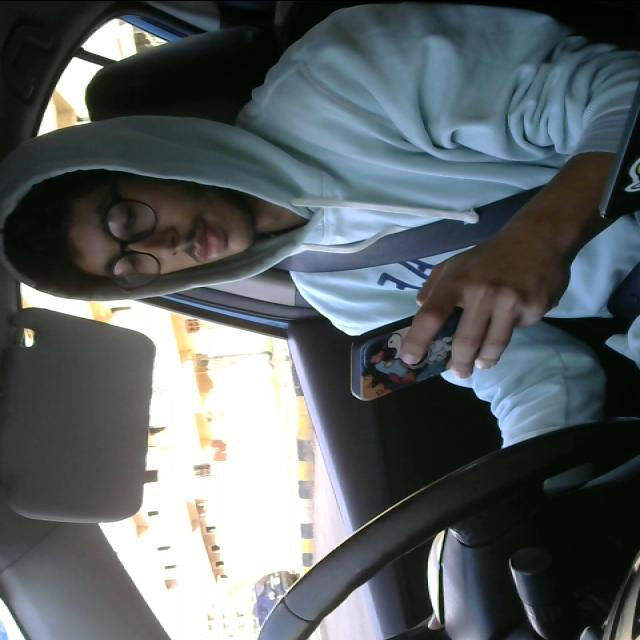mobile use: (340, 309, 502, 401)
